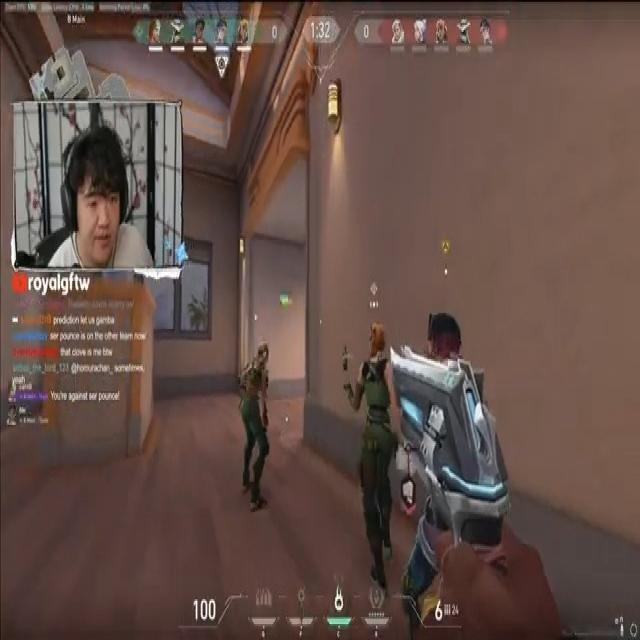ally: (338, 304, 402, 609), (236, 334, 273, 522)
